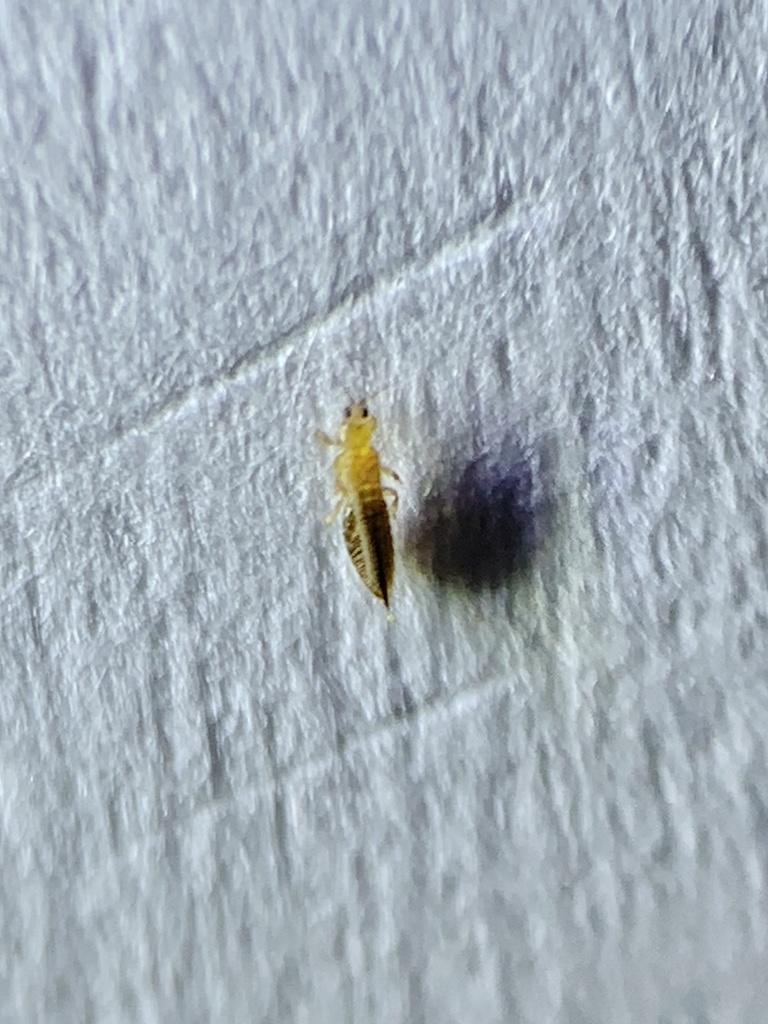tiny_pests: (260, 331, 453, 660)
